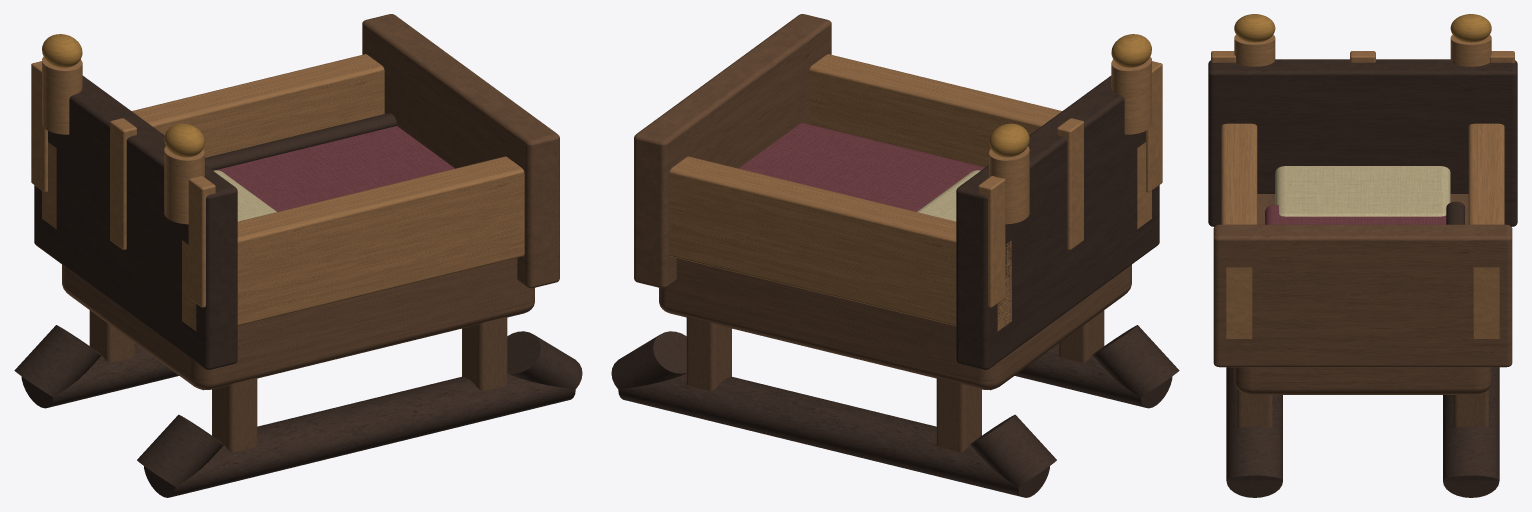
File: cradle.glb
The picture shows the model from 3 angles, left to right: view 1: azimuth 30°, elevation 25°; view 2: azimuth 150°, elevation 25°; view 3: azimuth 270°, elevation 25°; orthographic projection. The views are drawn at different scales.
Visible parts, largest first — view 1: cradle; view 2: cradle; view 3: cradle.
Part boxes in pixels (x1,y1,x2,y2): cradle: [14, 14, 582, 497]; cradle: [611, 14, 1179, 497]; cradle: [1208, 14, 1517, 497].
Size of the model in its own units: 1 by 0.8 by 0.7.
Materials: 1 (1 with a texture image).
